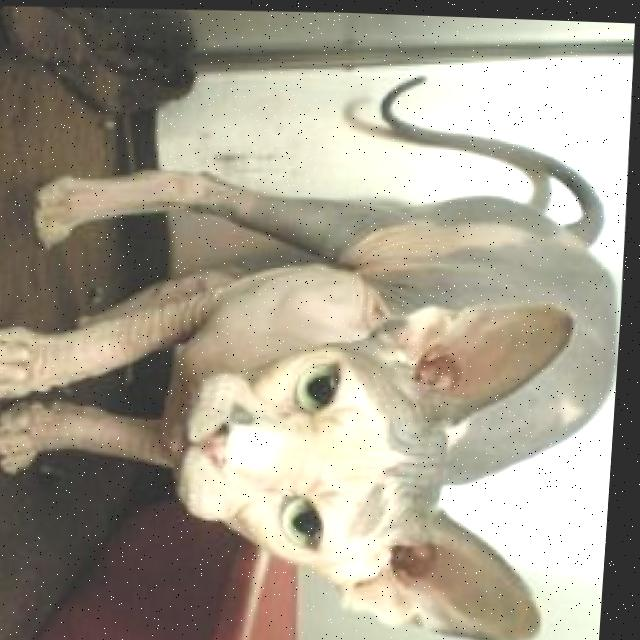Sphynx: (0, 51, 637, 640)
